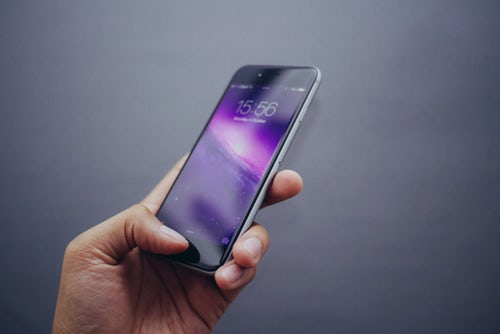phone: (141, 60, 322, 280)
